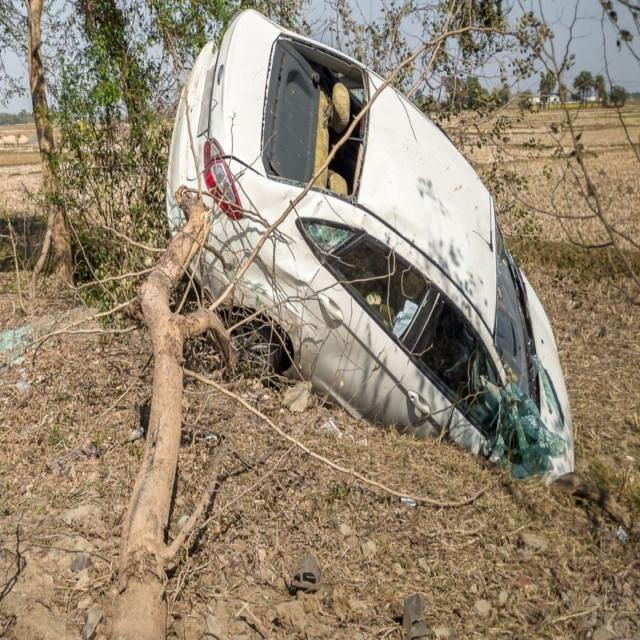accident: (166, 11, 574, 482)
